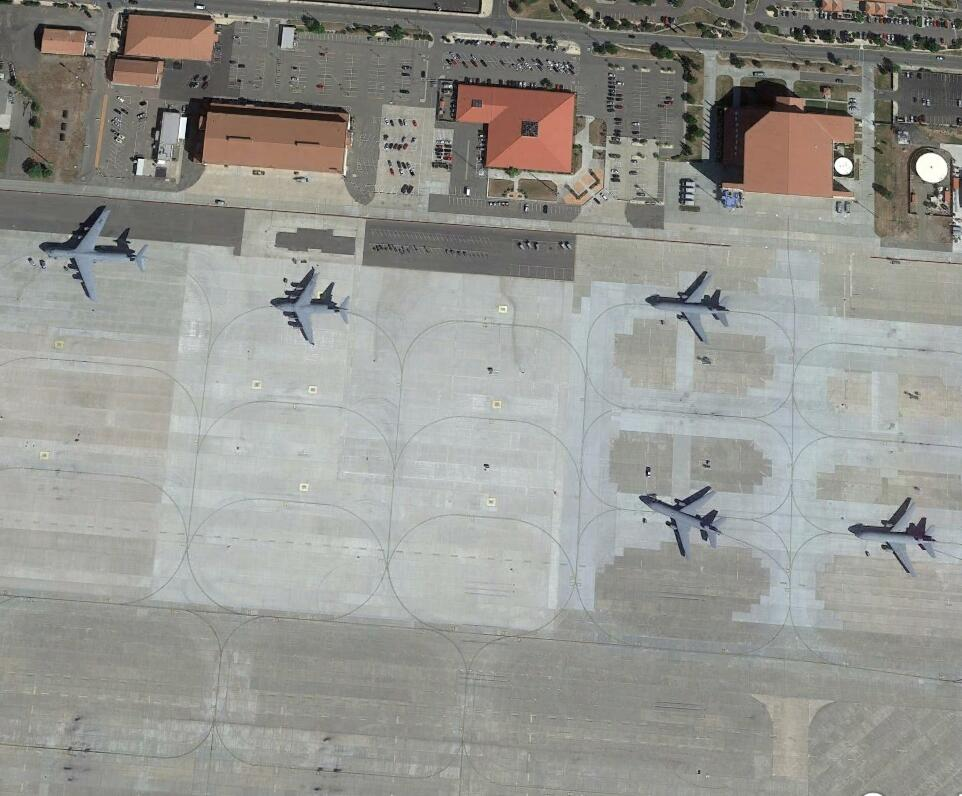A18: (639, 479, 728, 555), (646, 272, 735, 344), (851, 503, 939, 575)
A3: (271, 275, 352, 346)
A4: (38, 206, 150, 302)
